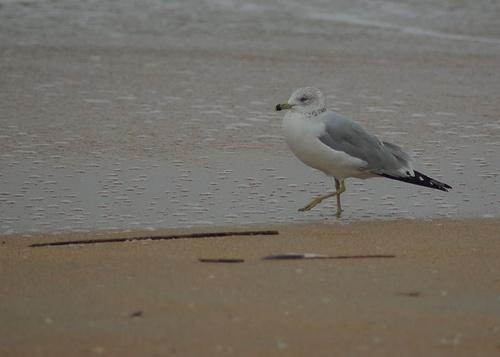bird: (274, 86, 453, 220)
